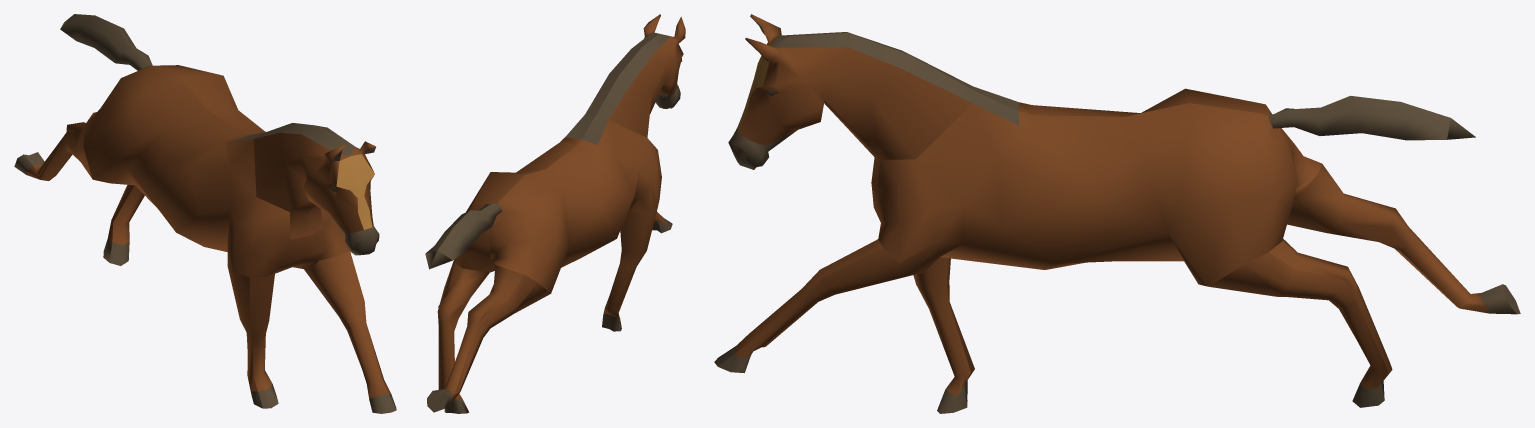
Rendered from Horse.fbx.
3 views of the same model, side by side, from view 1: azimuth 30°, elevation 25°; view 2: azimuth 150°, elevation 25°; view 3: azimuth 270°, elevation 25° (orthographic). The views are drawn at different scales.
Parts seen in each view (by area): view 1: Horse; view 2: Horse; view 3: Horse.
Boxes of the visible parts, left/top/right/bottom form: Horse: left=14, top=14, right=396, bottom=413; Horse: left=425, top=14, right=685, bottom=413; Horse: left=714, top=14, right=1520, bottom=413.
Size of the model in its own units: 387 by 910 by 1679.
